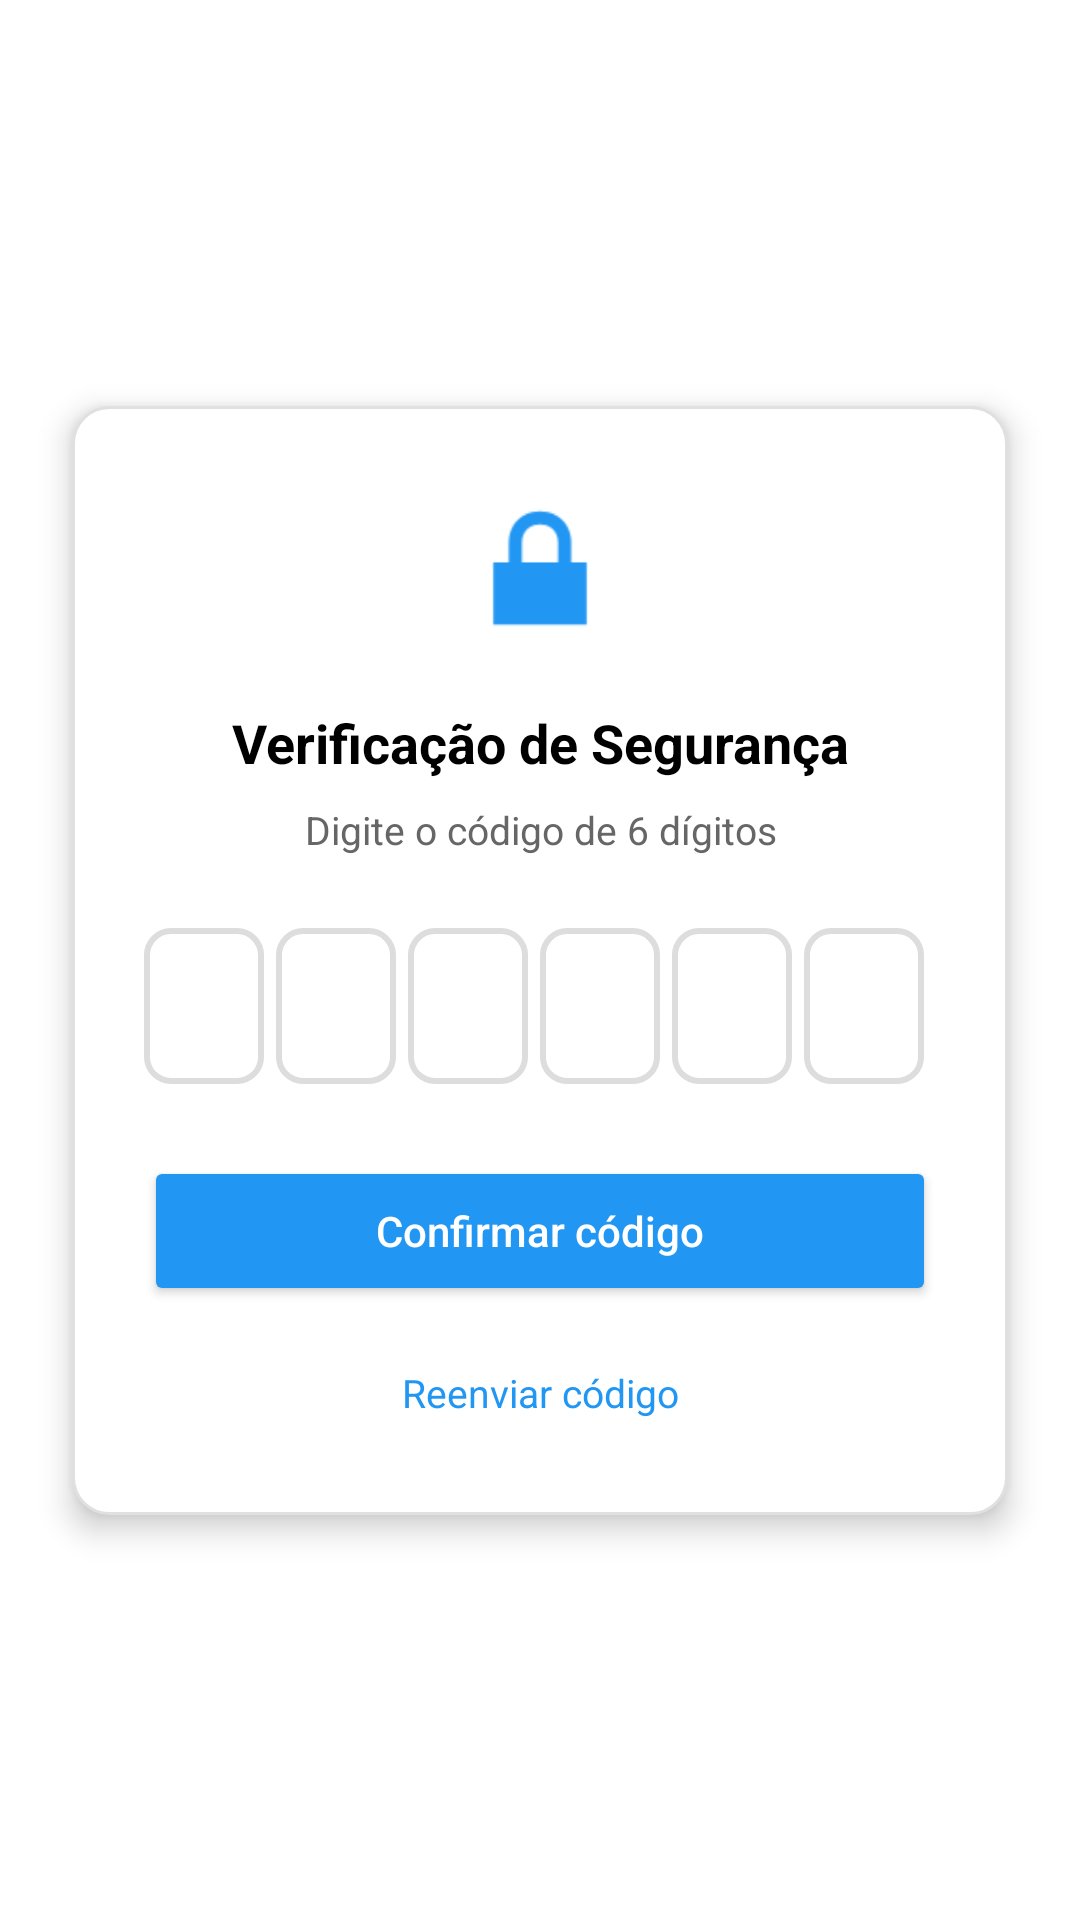

Icons on this 1080 × 1920 Android screen, each with its box as detection(x1, y1, x2, y2):
lock: detection(492, 510, 588, 626)
